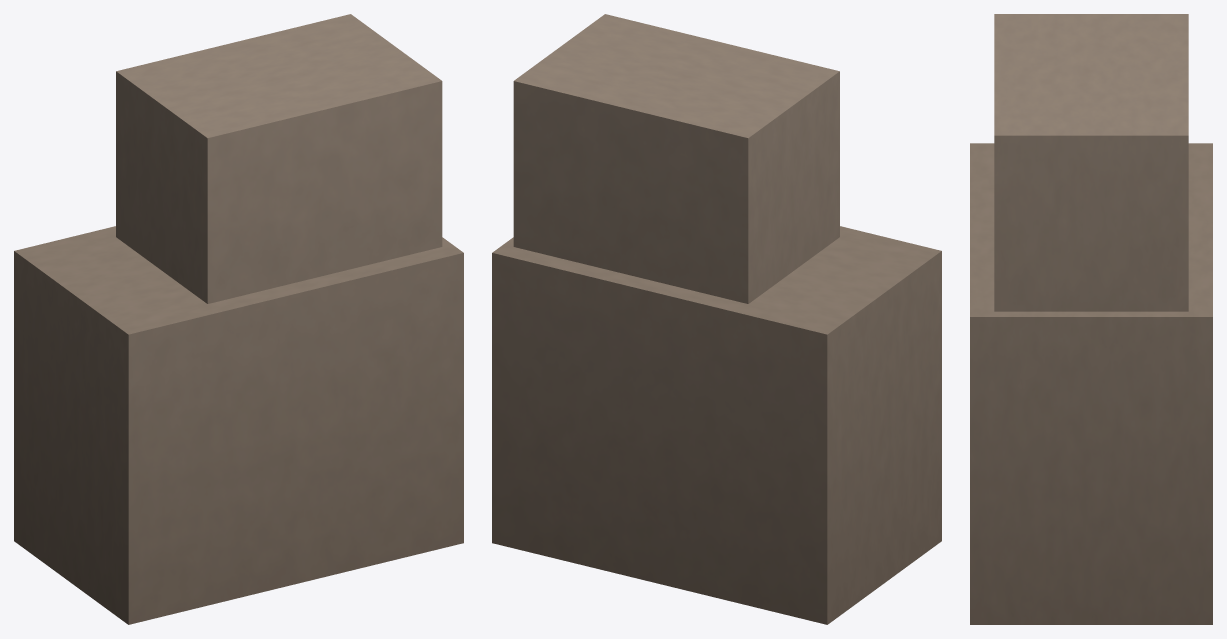
Rendered from cliff.glb.
The picture shows the model from 3 angles, left to right: view 1: azimuth 30°, elevation 25°; view 2: azimuth 150°, elevation 25°; view 3: azimuth 270°, elevation 25°; orthographic projection. The views are drawn at different scales.
Parts seen in each view (by area): view 1: cliff; view 2: cliff; view 3: cliff.
Boxes of the visible parts, box(x1,y1,x2,y2) form: cliff: box(14, 14, 463, 624); cliff: box(492, 14, 941, 624); cliff: box(970, 14, 1212, 624).
Bounding box in the file's own units: 2.2 × 2.86 × 1.3.
Materials: 1 (1 with a texture image).
